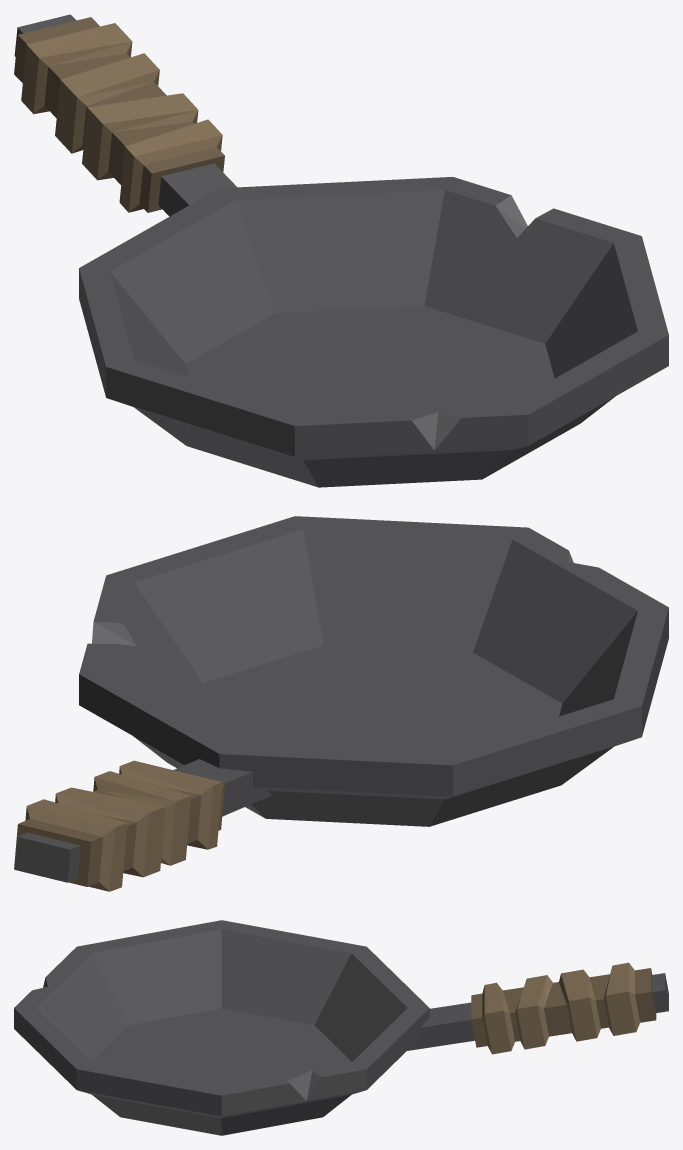
The model's file is pot.glb.
3 views of the same model, one above another, from view 1: azimuth 30°, elevation 25°; view 2: azimuth 150°, elevation 25°; view 3: azimuth 270°, elevation 25° (orthographic). The views are drawn at different scales.
Parts seen in each view (by area): view 1: SM_Prop_Pot_01; view 2: SM_Prop_Pot_01; view 3: SM_Prop_Pot_01.
Part boxes in pixels (x1,y1,x2,y2): SM_Prop_Pot_01: [14, 14, 668, 487]; SM_Prop_Pot_01: [14, 516, 668, 891]; SM_Prop_Pot_01: [14, 920, 668, 1135].
Size of the model in its own units: 36.72 by 9.49 by 57.88.
1 material, 1 textured.
